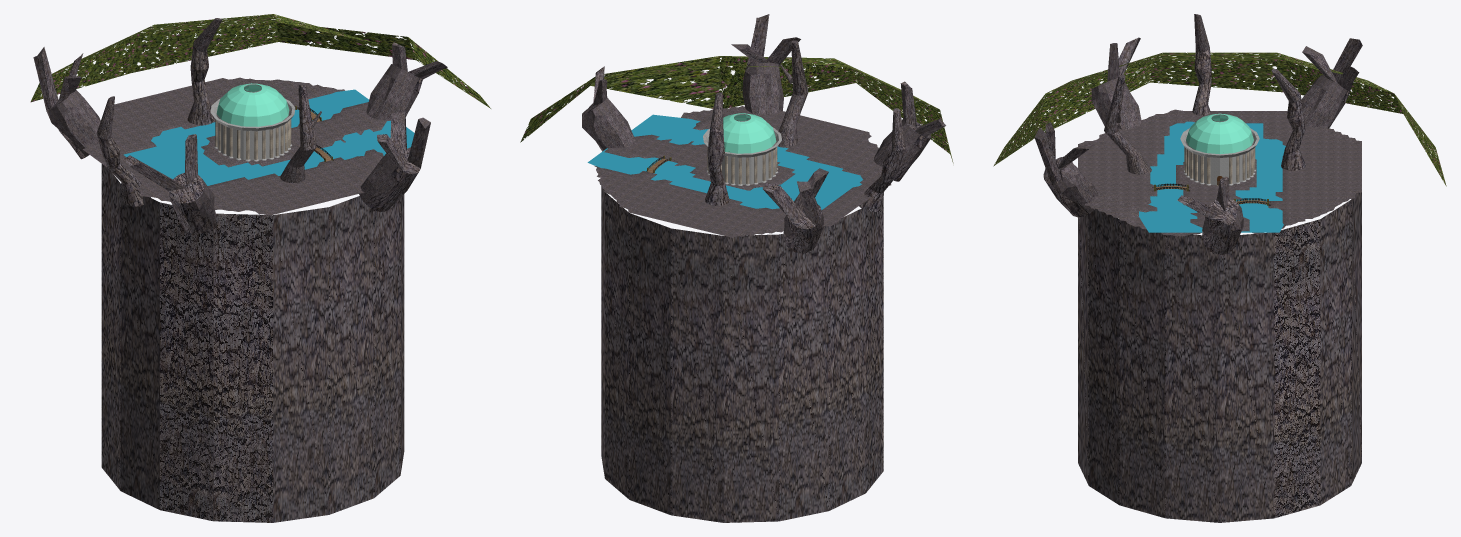
The model's file is treeLibrary.glb.
The picture shows the model from 3 angles, left to right: view 1: azimuth 30°, elevation 25°; view 2: azimuth 150°, elevation 25°; view 3: azimuth 270°, elevation 25°; orthographic projection. The views are drawn at different scales.
Parts seen in each view (by area): view 1: mainTreeTrunk, treeGround, treeLeaves, lake, branch4, branch2, branch1, branch3, cupula, branch5, branch7, branch6 (+2 smaller); view 2: mainTreeTrunk, treeGround, treeLeaves, lake, branch4, branch2, branch3, branch1, cupula, branch5, branch6, branch7 (+1 smaller); view 3: mainTreeTrunk, treeGround, treeLeaves, lake, branch2, branch4, branch3, cupula, branch1, branch5, branch6, branch7 (+1 smaller).
Boxes of the visible parts, x1,y1,x2,y2 form: mainTreeTrunk: [101, 164, 404, 522]; treeGround: [83, 77, 410, 215]; treeLeaves: [30, 14, 490, 108]; lake: [124, 89, 414, 185]; branch4: [359, 112, 430, 211]; branch2: [33, 47, 100, 159]; branch1: [124, 134, 216, 233]; branch3: [366, 42, 447, 120]; cupula: [216, 83, 289, 126]; branch5: [187, 18, 222, 125]; branch7: [96, 96, 150, 206]; branch6: [280, 82, 321, 182]; mainTreeTrunk: [601, 185, 883, 522]; treeGround: [594, 106, 891, 237]; treeLeaves: [520, 56, 953, 163]; lake: [587, 114, 862, 209]; branch4: [731, 14, 800, 114]; branch2: [762, 168, 828, 253]; branch3: [582, 66, 635, 151]; branch1: [873, 81, 945, 181]; cupula: [708, 113, 776, 153]; branch5: [705, 92, 729, 205]; branch6: [778, 40, 808, 147]; branch7: [859, 108, 905, 211]; mainTreeTrunk: [1078, 192, 1361, 522]; treeGround: [1078, 109, 1361, 236]; treeLeaves: [993, 52, 1446, 186]; lake: [1139, 121, 1285, 232]; branch2: [1301, 38, 1362, 128]; branch4: [1034, 122, 1098, 217]; branch3: [1177, 176, 1243, 254]; cupula: [1186, 113, 1253, 154]; branch1: [1091, 37, 1141, 129]; branch5: [1271, 69, 1305, 170]; branch6: [1104, 74, 1151, 174]; branch7: [1192, 14, 1211, 115].
Size of the model in its own units: 607 by 607 by 639.
14 materials, 11 textured.
